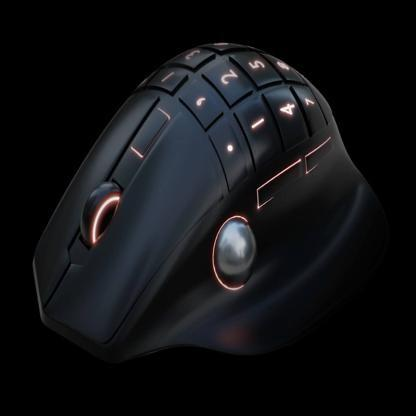not trash: (34, 27, 383, 382)
